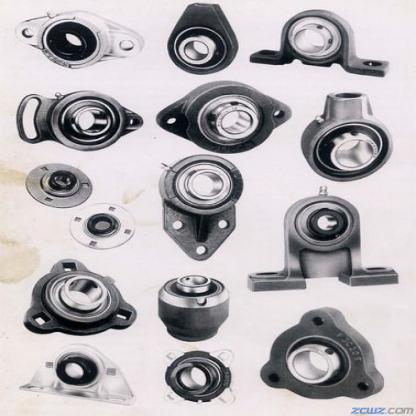FOD: (7, 9, 144, 68), (165, 1, 241, 76), (280, 334, 355, 388), (42, 271, 120, 322), (21, 163, 96, 210), (286, 12, 349, 66)
